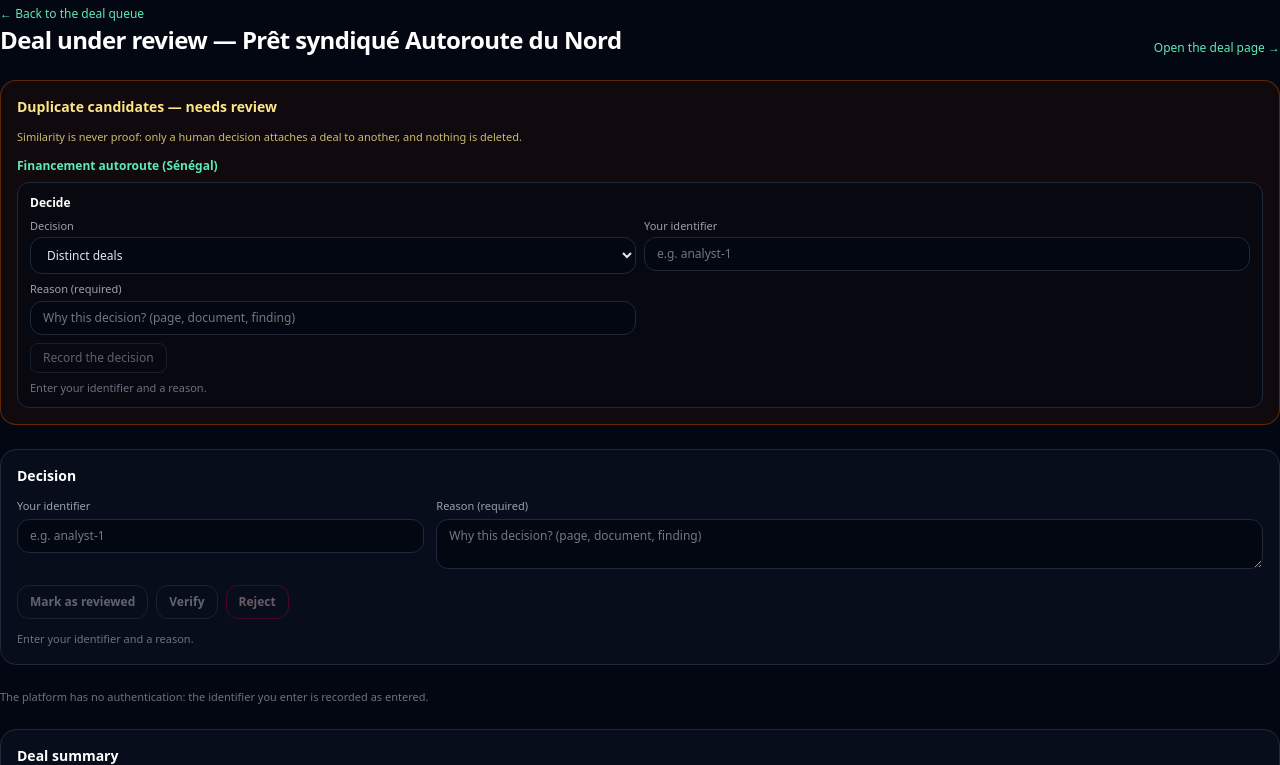
Test: Deals in the Review Center › verify is not offered by the backend while a candidate is open; a 409 is explained
Expected: the element with test id "dq-actions" is shown, [0, 450, 1279, 665]
Expected: the button with test id "dq-action-verify" is disabled, [156, 586, 218, 620]
Type "a" into the 2nd field with placeholder "e.g. analyst-1" at (221, 536), box [17, 519, 424, 553]
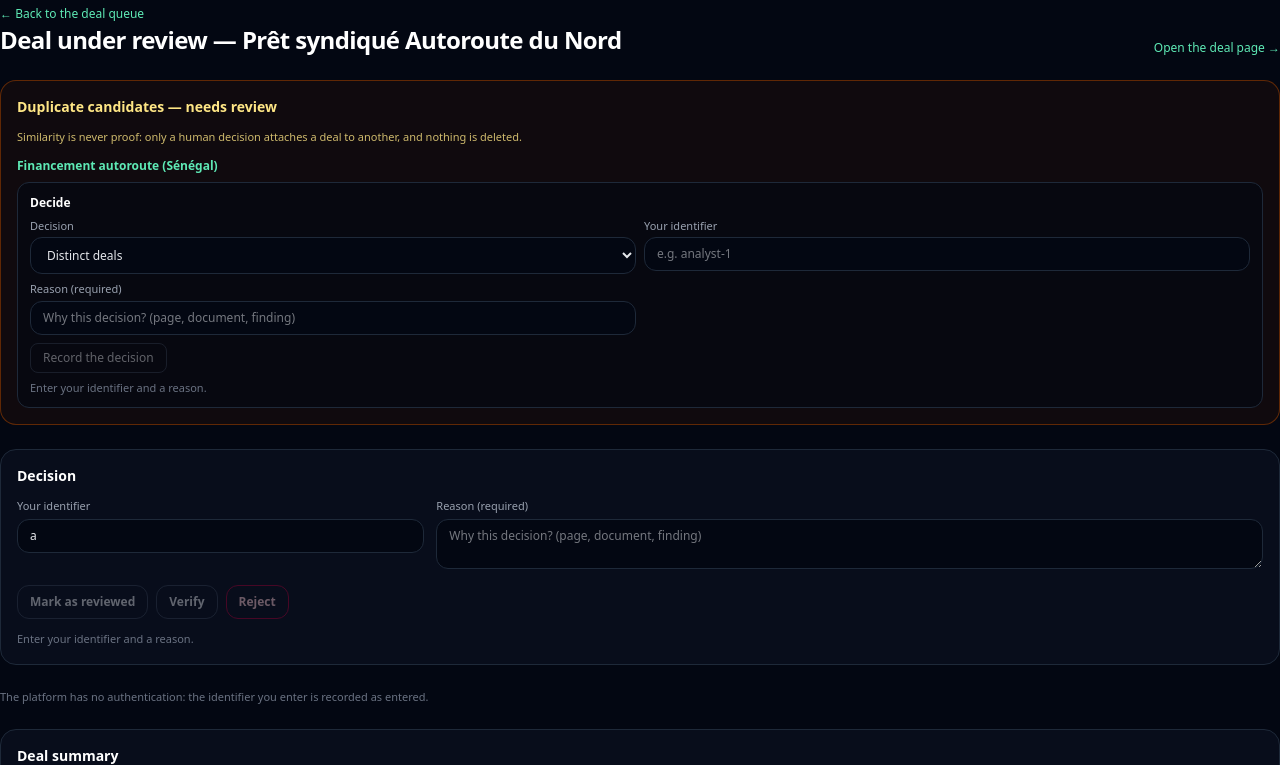
Type "r" into the text box with placeholder "Why this decision? (page, document, finding)" at (850, 544), box [436, 519, 1263, 569]
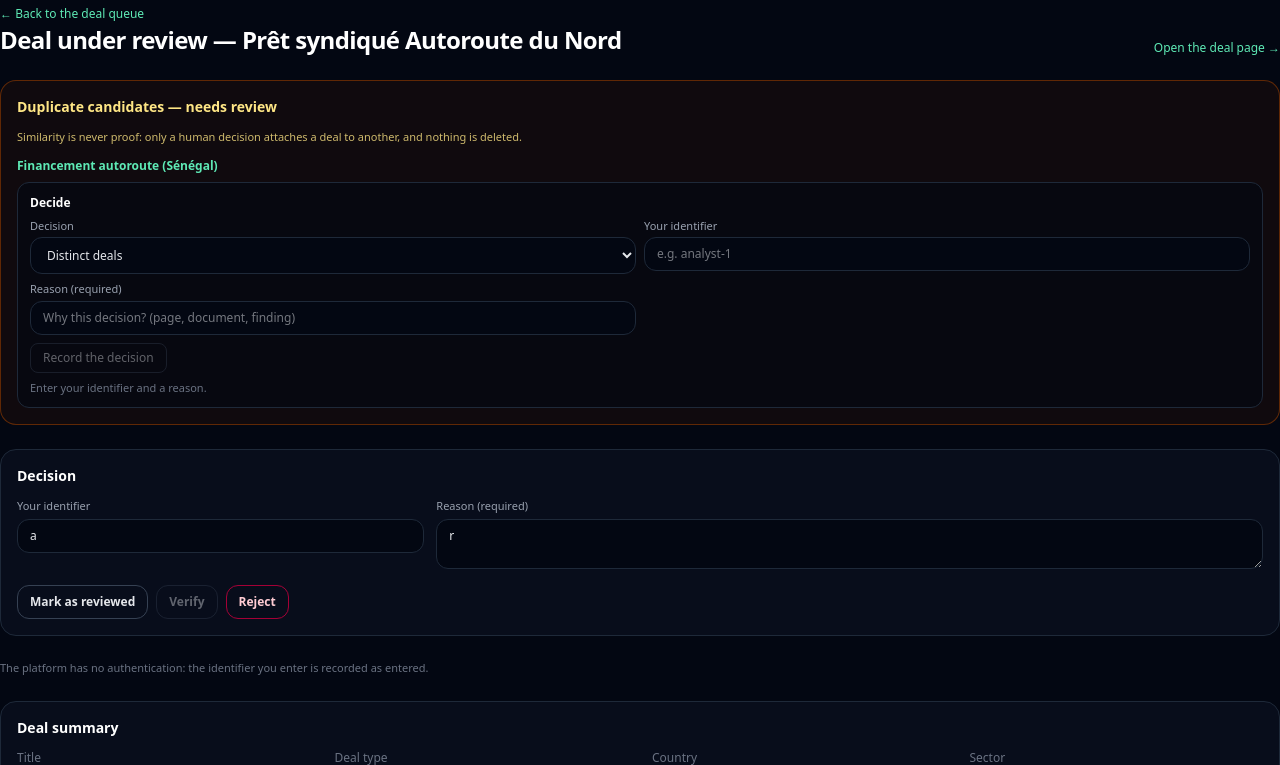
Click the button with test id "dq-action-reject" at (257, 602), box [226, 586, 289, 620]
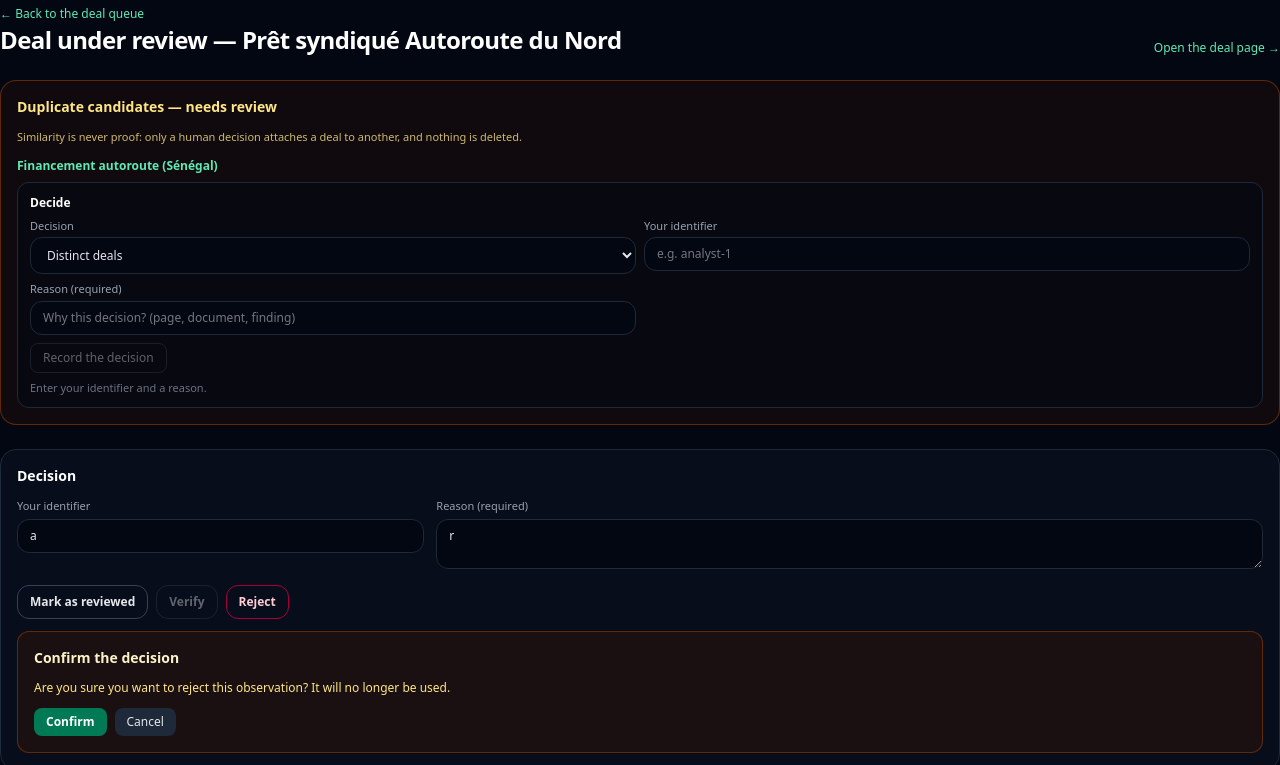
Click the button with test id "dq-confirm-yes" at (70, 722), box [34, 708, 106, 736]
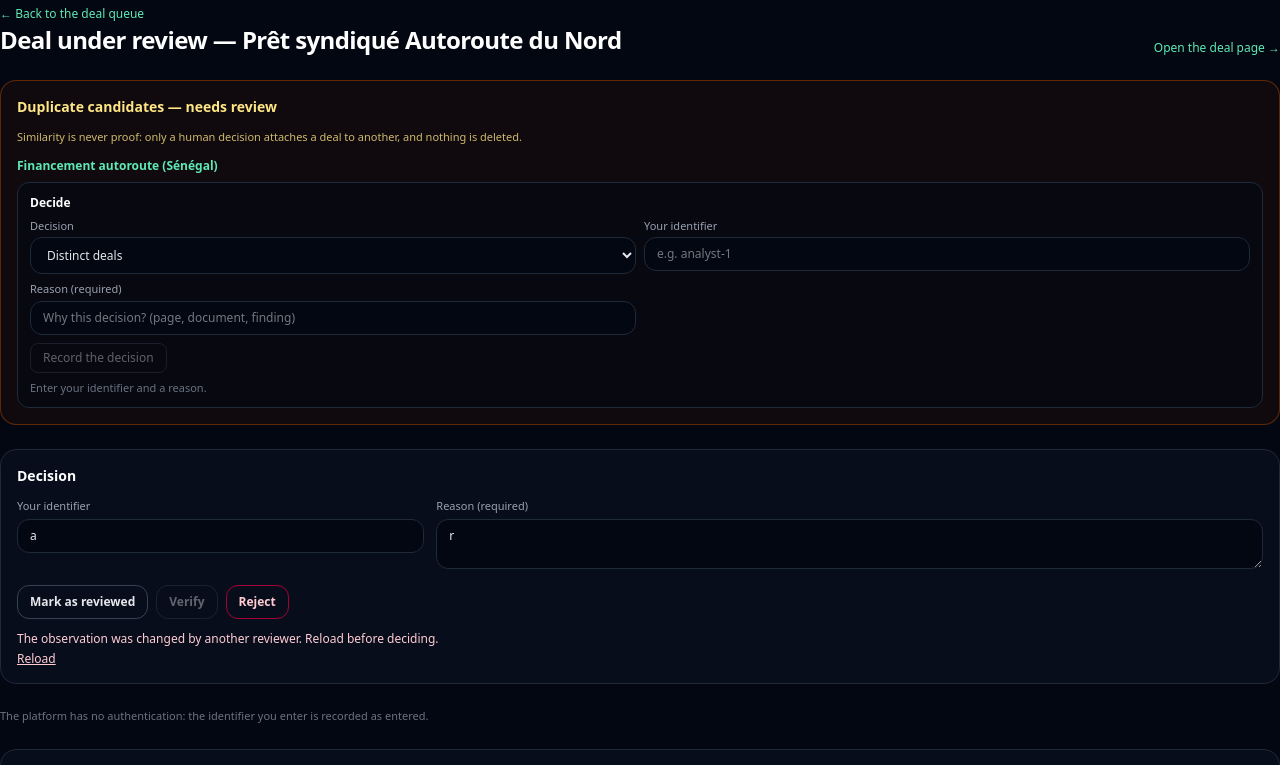
Result: the message with test id "dq-error" is shown at [17, 630, 438, 668]
